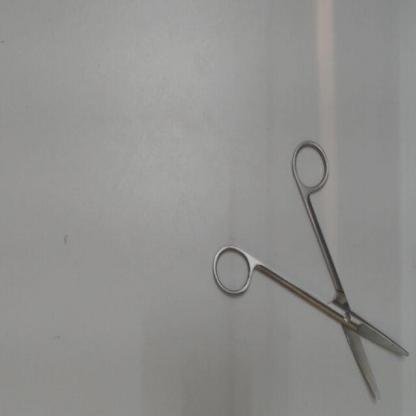Curved Mayo Scissors: (206, 131, 413, 407)
